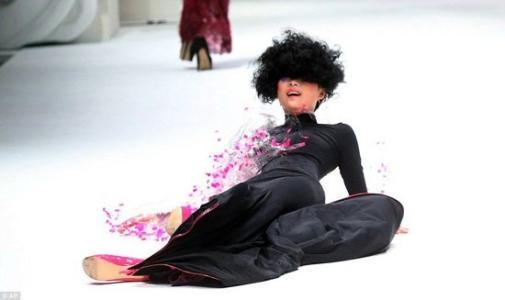falling: (92, 23, 403, 299)
